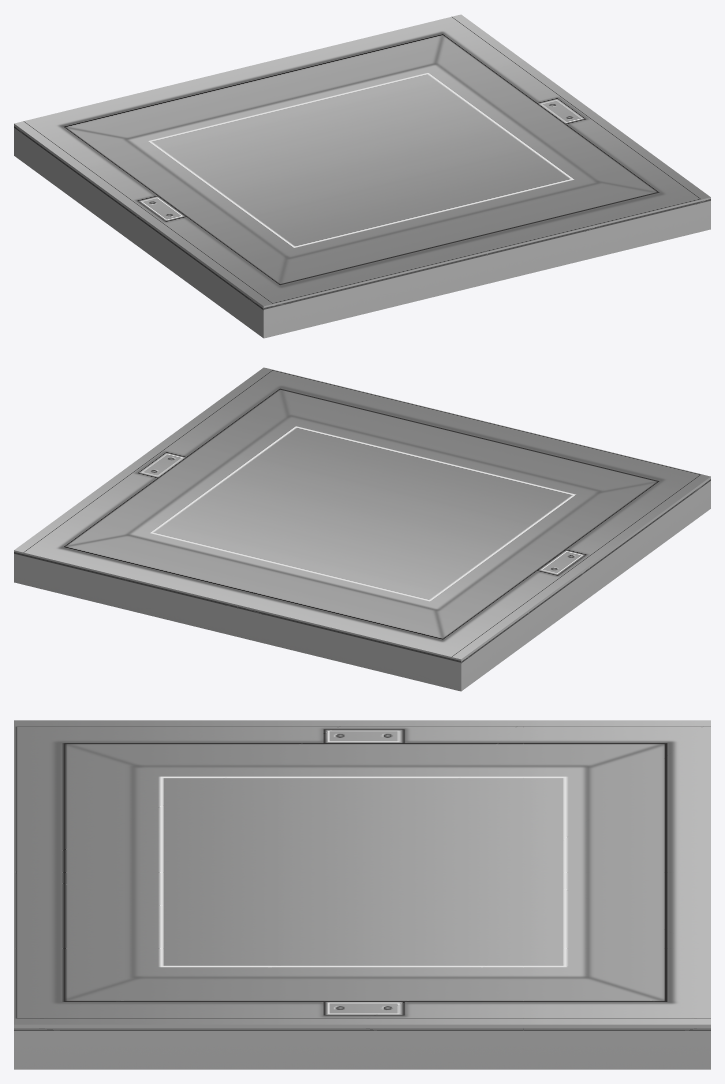
The model's file is Ceiling.FBX.
3 views of the same model, one above another, from view 1: azimuth 30°, elevation 25°; view 2: azimuth 150°, elevation 25°; view 3: azimuth 270°, elevation 25° (orthographic). The views are drawn at different scales.
Parts seen in each view (by area): view 1: Door_Door_Door_Door_Door_Door_Door_Door_Door_Door_Door_Door_; view 2: Door_Door_Door_Door_Door_Door_Door_Door_Door_Door_Door_Door_; view 3: Door_Door_Door_Door_Door_Door_Door_Door_Door_Door_Door_Door_.
Part boxes in pixels (<box>): Door_Door_Door_Door_Door_Door_Door_Door_Door_Door_Door_Door_: <box>14,14,710,338</box>; Door_Door_Door_Door_Door_Door_Door_Door_Door_Door_Door_Door_: <box>14,367,710,691</box>; Door_Door_Door_Door_Door_Door_Door_Door_Door_Door_Door_Door_: <box>14,720,710,1069</box>.
Bounding box in the file's own units: 200 × 13.78 × 194.
